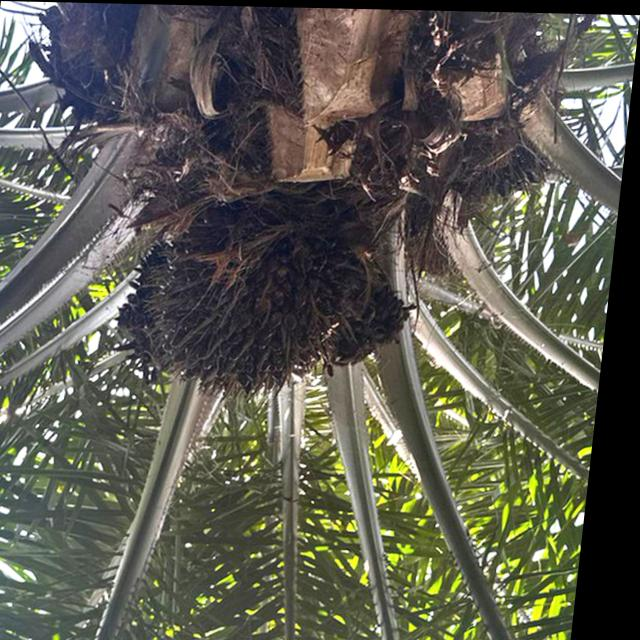ripe: (117, 182, 399, 414)
